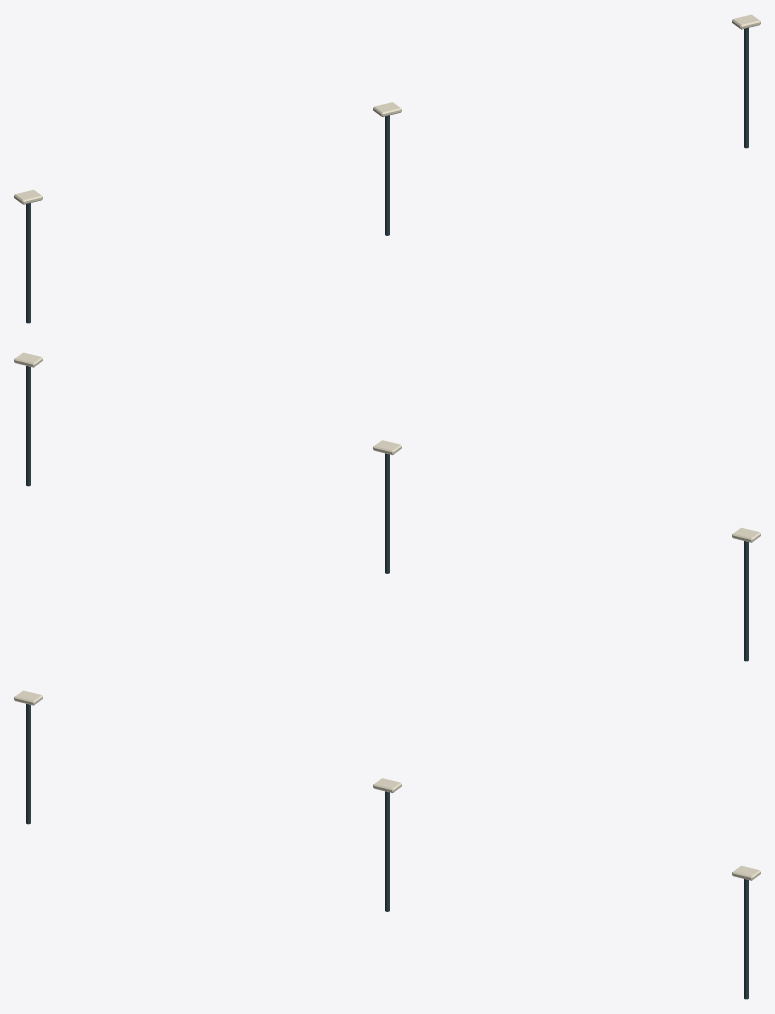
File: civic-ground-rect.glb
3 views of the same model, one above another, from view 1: azimuth 30°, elevation 25°; view 2: azimuth 150°, elevation 25°; view 3: azimuth 330°, elevation 25° (orthographic).
Parts seen in each view (by area): view 1: CivicGround; view 2: CivicGround; view 3: CivicGround.
Boxes of the visible parts, x1,y1,x2,y2 form: CivicGround: [14, 14, 760, 323]; CivicGround: [14, 352, 760, 661]; CivicGround: [14, 690, 760, 999].
Size of the model in its own units: 24.7 by 4.07 by 0.55.
